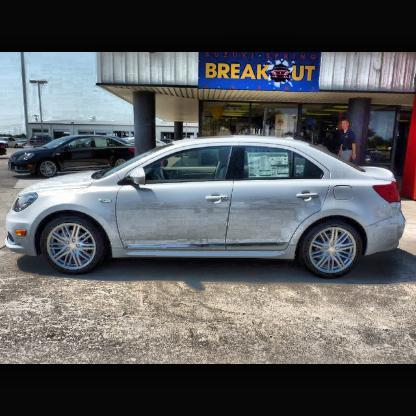Suzuki Kizashi Sedan 2012: (2, 138, 411, 290)
